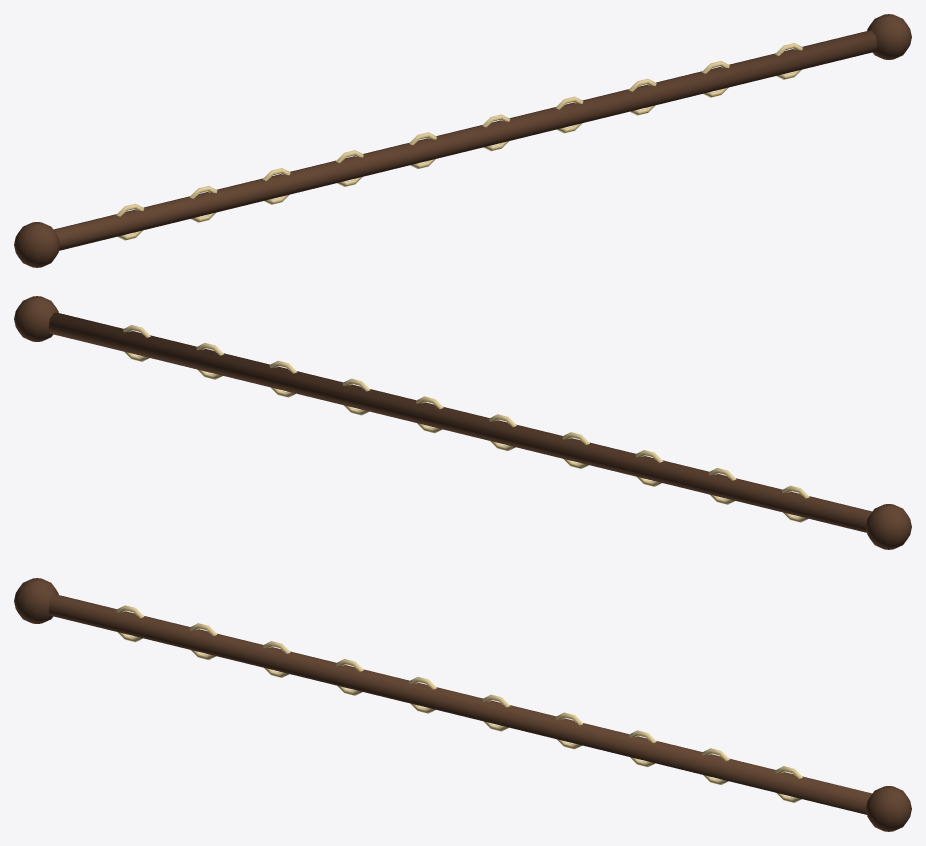
The model's file is curtain_rail.glb.
3 renders of one model, top to bottom at view 1: azimuth 30°, elevation 25°; view 2: azimuth 150°, elevation 25°; view 3: azimuth 330°, elevation 25°, orthographic.
Parts seen in each view (by area): view 1: curtain_rail; view 2: curtain_rail; view 3: curtain_rail.
Part boxes in pixels (box(x1,y1,x2,y2)): curtain_rail: box(14, 14, 911, 267); curtain_rail: box(14, 296, 911, 549); curtain_rail: box(14, 578, 911, 831).
Bounding box in the file's own units: 1.34 × 0.06 × 0.0602.
